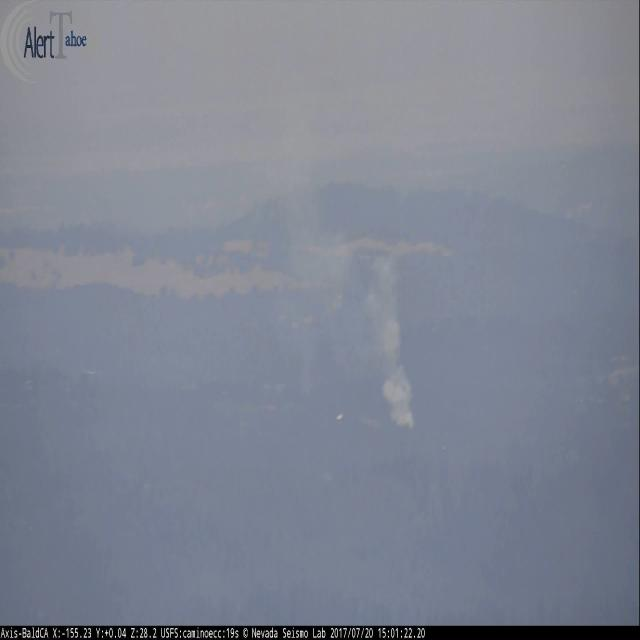smoke: (277, 219, 358, 395), (365, 259, 418, 431)
